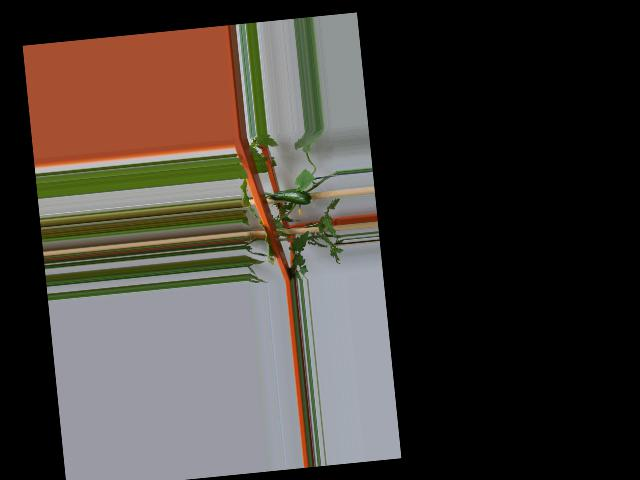cucumber: (271, 187, 315, 208)
